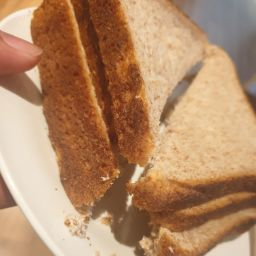Breads: (22, 1, 219, 251), (93, 8, 256, 256)
